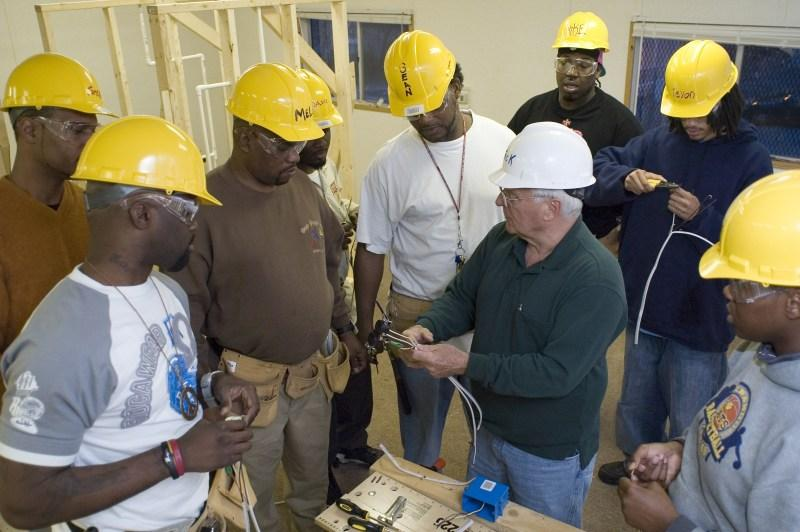helmet: (72, 112, 225, 210), (698, 170, 800, 291), (229, 63, 328, 145), (491, 122, 597, 191), (1, 52, 111, 117), (659, 40, 741, 120), (386, 31, 459, 117), (295, 68, 347, 130), (553, 11, 610, 53)
